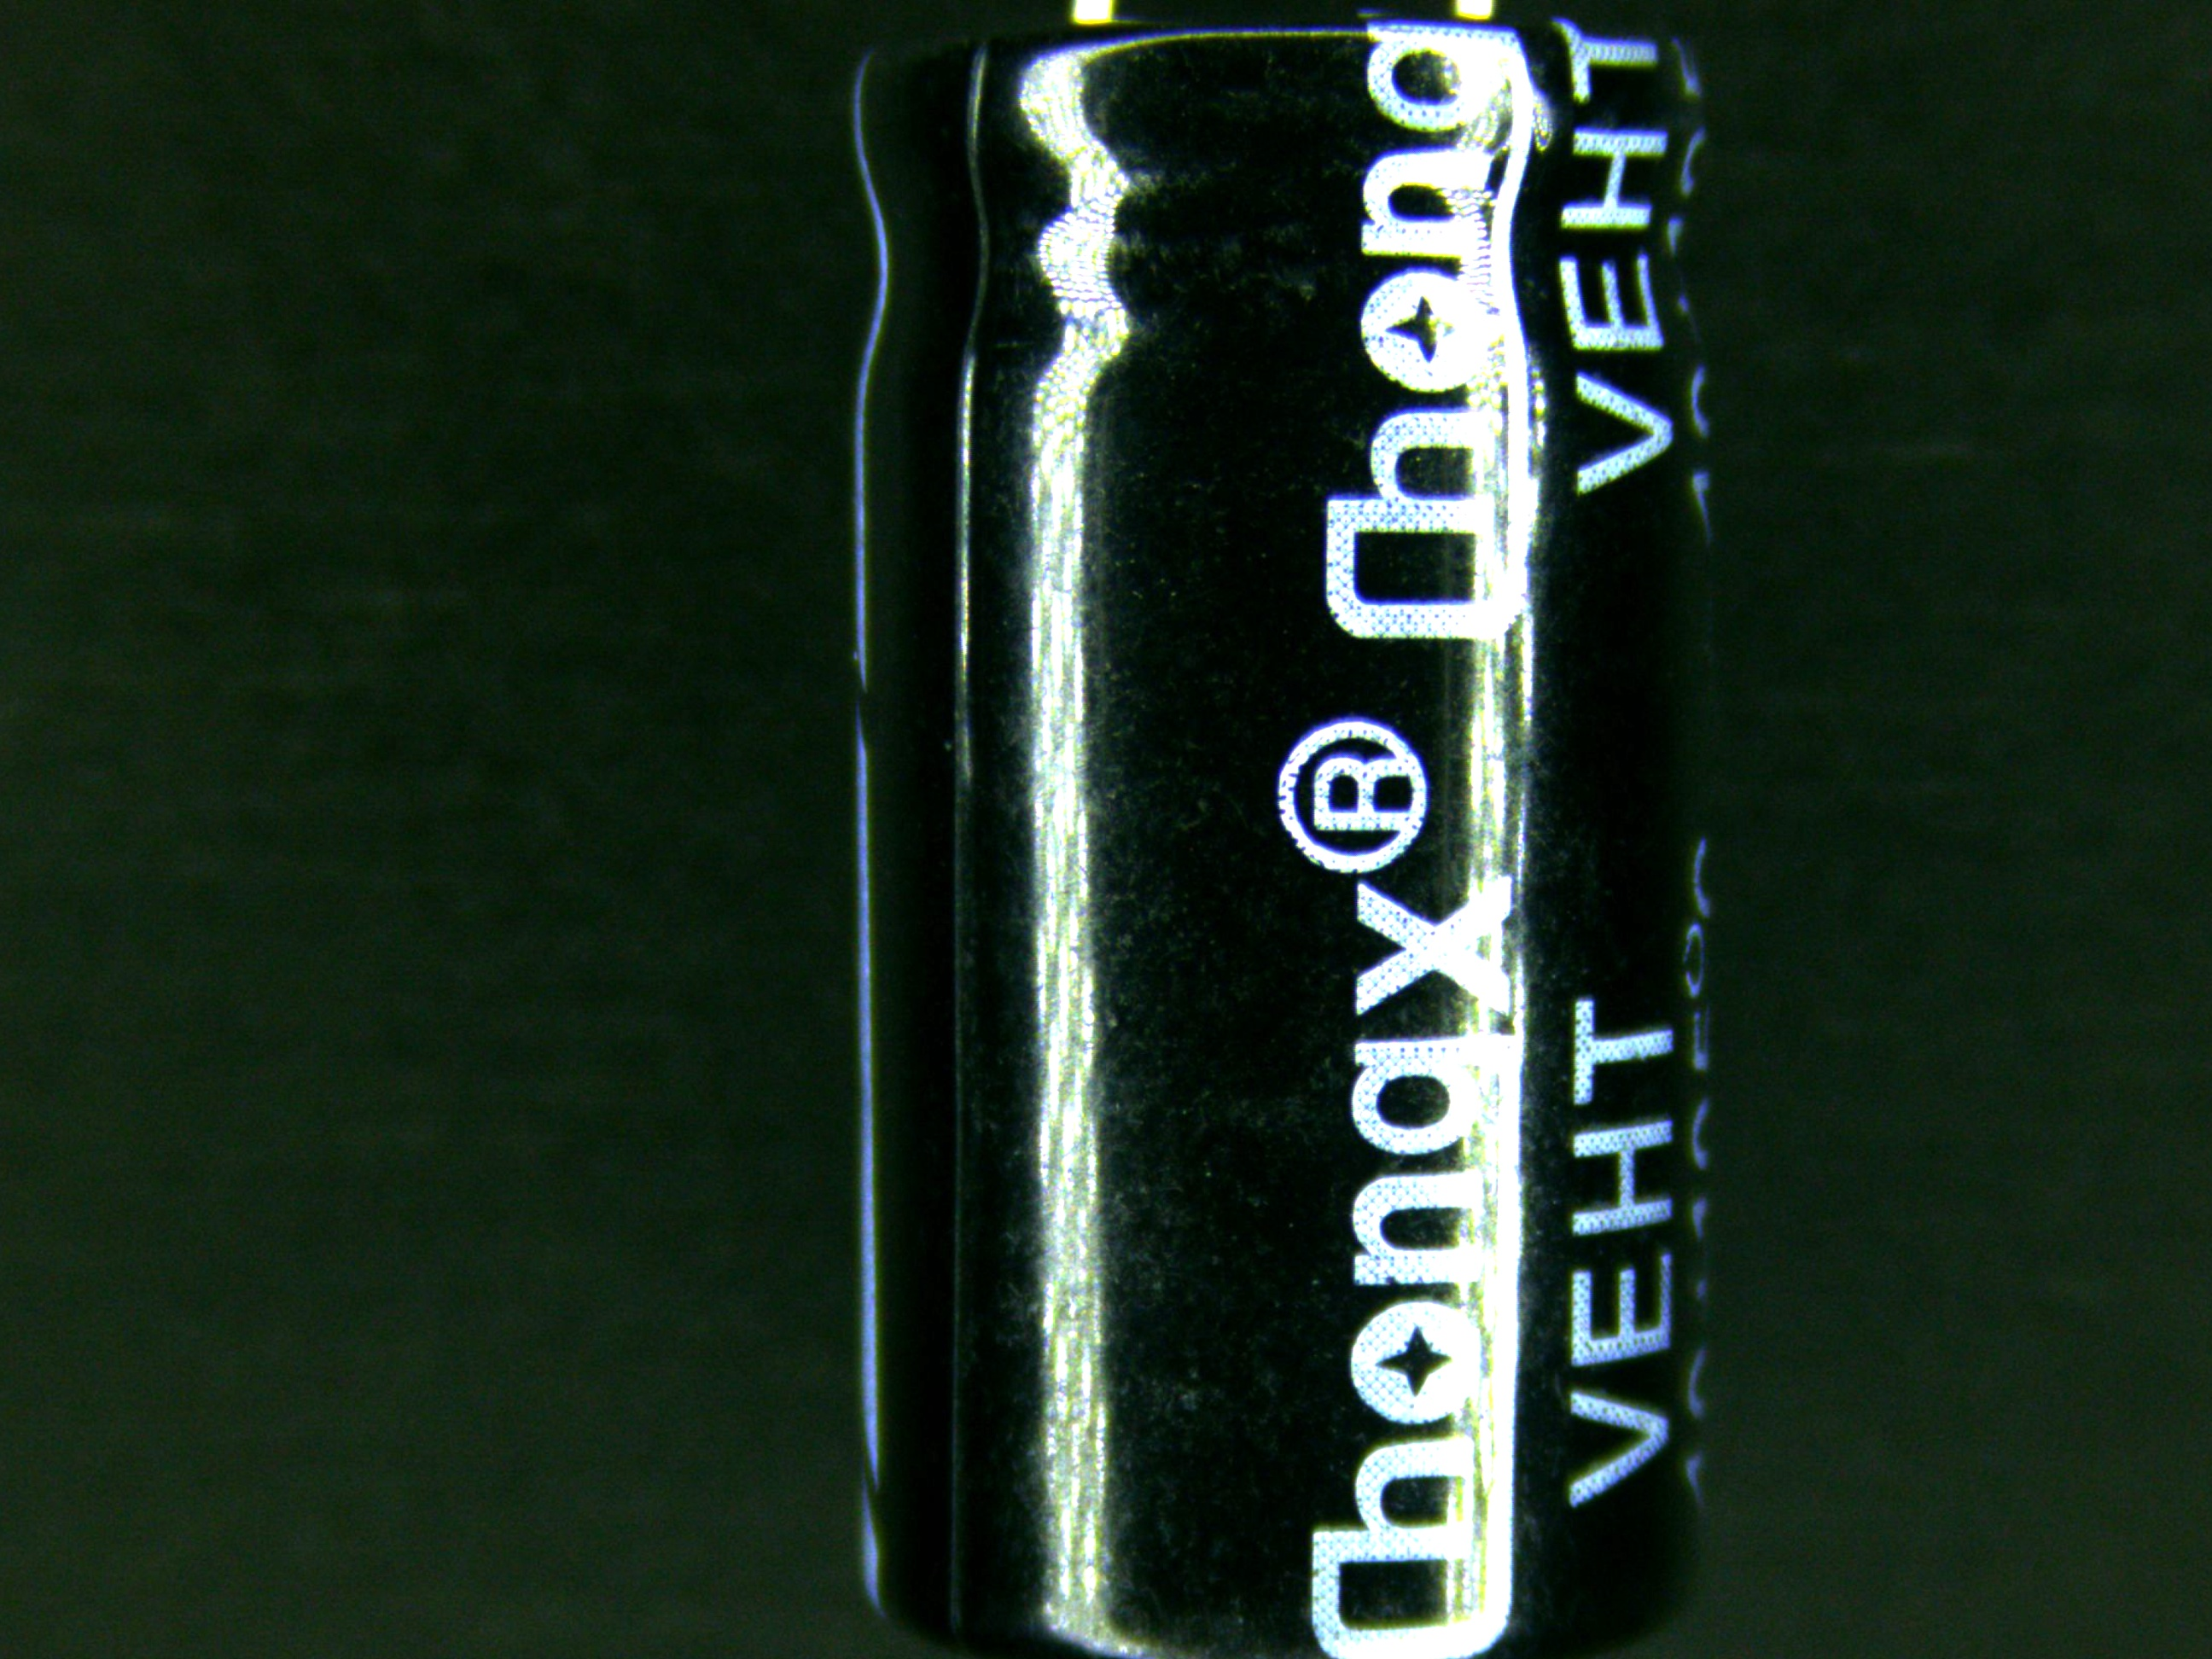c3: (831, 0, 1743, 1659)
